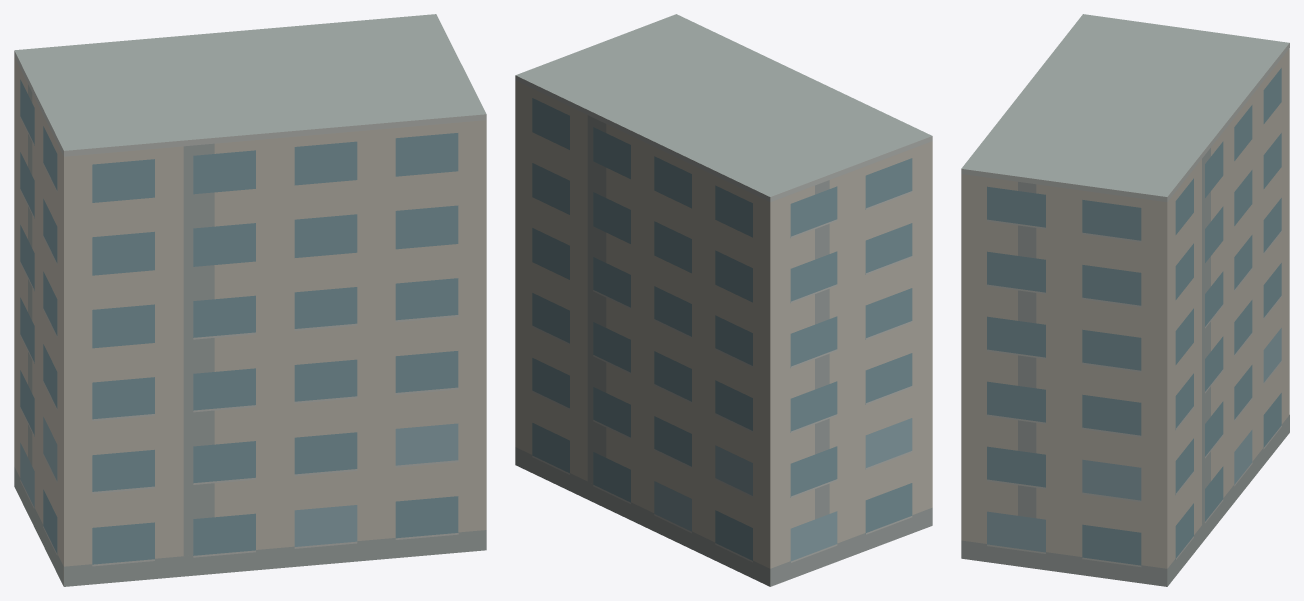
Rendered from survey-upis-32885605.glb.
3 renders of one model, left to right at view 1: azimuth 30°, elevation 25°; view 2: azimuth 150°, elevation 25°; view 3: azimuth 270°, elevation 25°, orthographic. The views are drawn at different scales.
Visible parts, largest first — view 1: survey-upis-32885605.tmp; view 2: survey-upis-32885605.tmp; view 3: survey-upis-32885605.tmp.
Boxes of the visible parts, x1,y1,x2,y2 form: survey-upis-32885605.tmp: (14, 14, 486, 586); survey-upis-32885605.tmp: (515, 14, 932, 586); survey-upis-32885605.tmp: (961, 14, 1289, 586).
Bounding box in the file's own units: 18.44 × 18.3 × 13.99.
